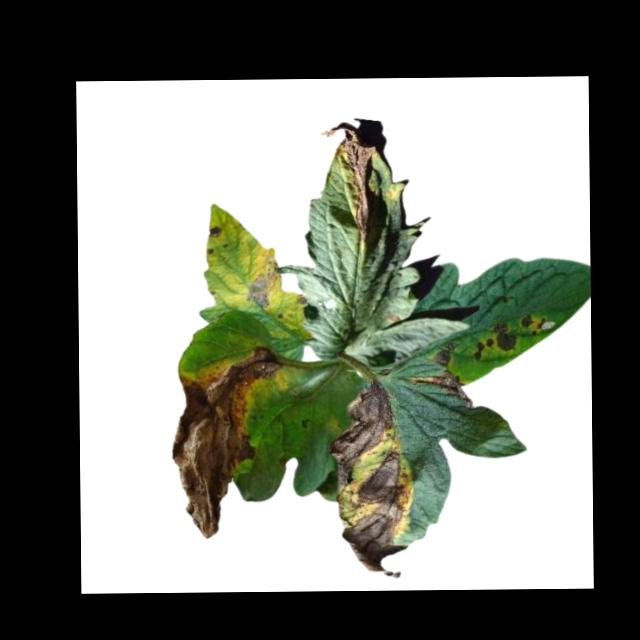Early_blight: (170, 348, 285, 540), (330, 379, 415, 583), (320, 122, 379, 245), (411, 342, 472, 408), (246, 258, 281, 311), (493, 321, 516, 353), (521, 314, 547, 335), (475, 336, 493, 361), (208, 224, 225, 241)
